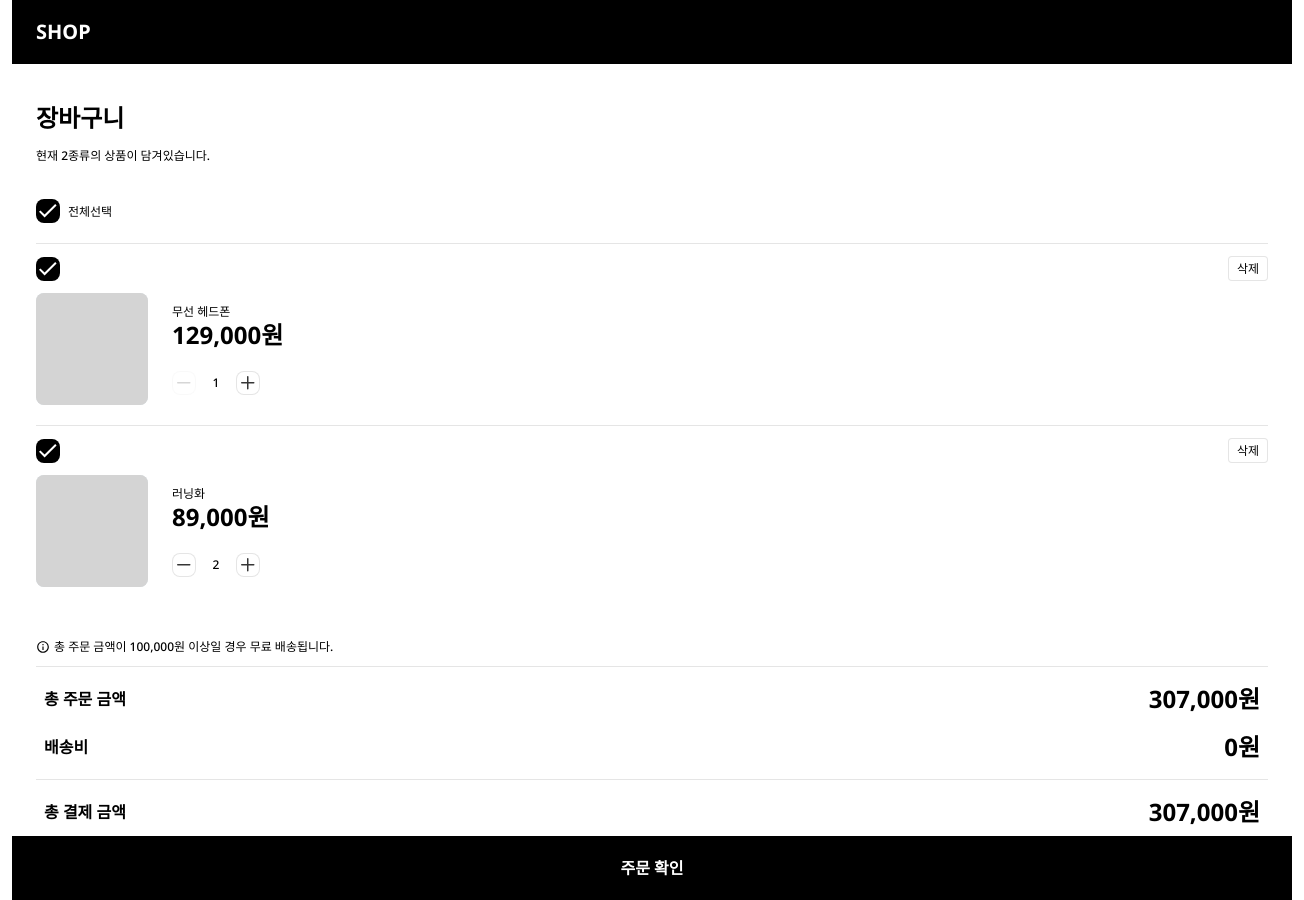
Test: 가격 동기화 › 수량 변경(+) 시 주문 금액과 총 결제 금액이 갱신된다
Click the 3rd button. click: (248, 382)
box: [236,370,260,394]
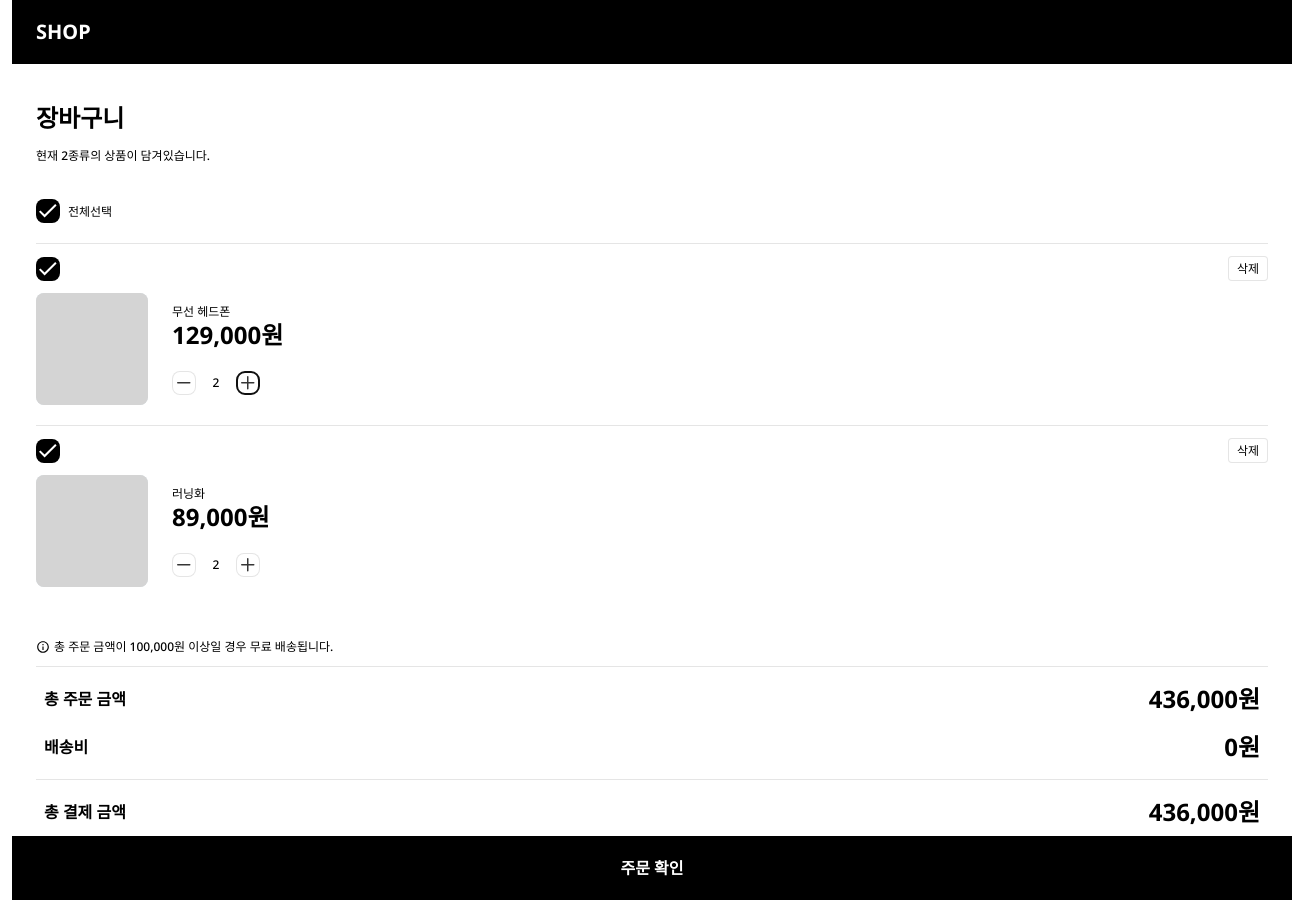
Expected: the text "2" below "129,000" is shown, [213,374,220,390]
Expected: the 1st text "436,000원" is shown, [1149,687,1260,711]
